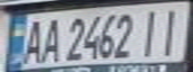2: (115, 8, 139, 60), (63, 12, 87, 62)
4: (81, 11, 103, 61)
6: (96, 10, 121, 60)
A: (21, 16, 45, 64), (39, 15, 63, 63)
I: (154, 3, 187, 56), (136, 6, 166, 57)
